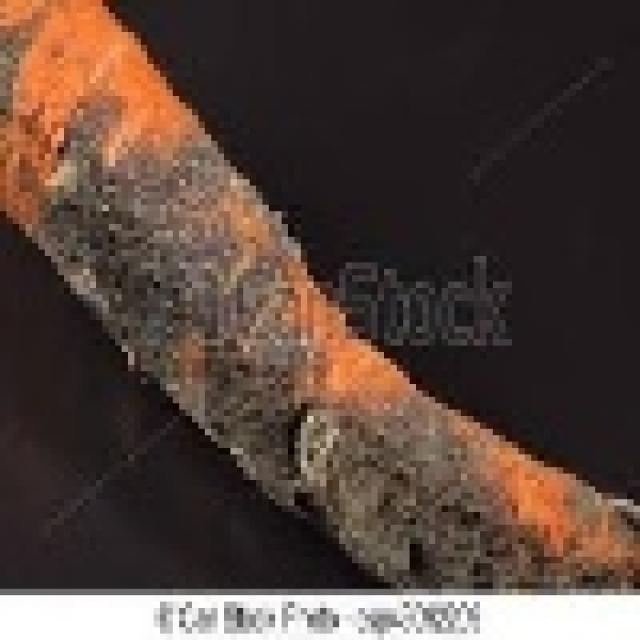Stale_Carrot: (0, 1, 640, 595)
